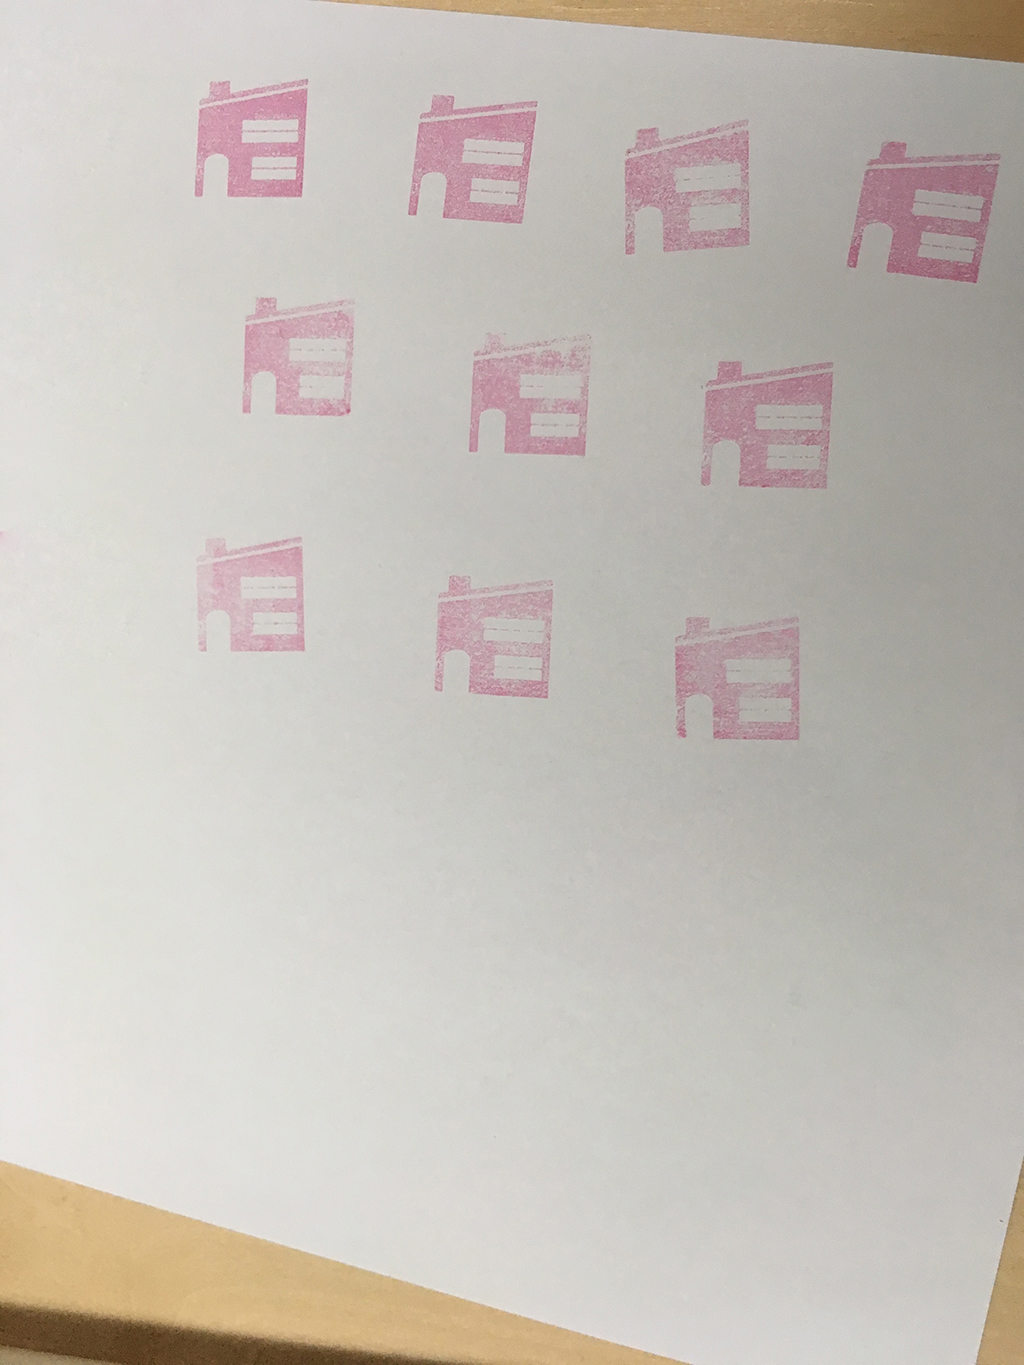house: (833, 124, 1005, 301), (605, 109, 767, 269), (402, 86, 556, 242), (687, 347, 841, 502), (455, 315, 605, 471), (658, 602, 813, 751), (418, 561, 573, 705), (183, 66, 327, 211), (182, 524, 316, 671), (229, 285, 362, 427)
